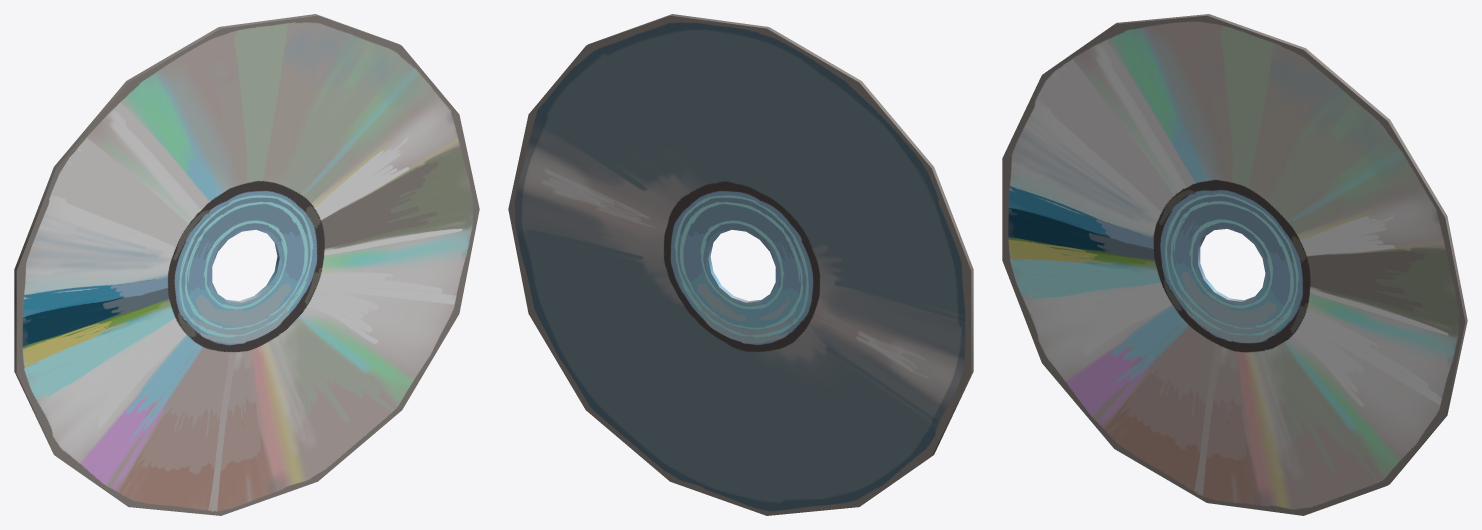
File: lowpolycd.gltf
The picture shows the model from 3 angles, left to right: view 1: azimuth 30°, elevation 25°; view 2: azimuth 150°, elevation 25°; view 3: azimuth 330°, elevation 25°; orthographic projection.
Parts seen in each view (by area): view 1: Object_2; view 2: Object_2; view 3: Object_2.
Part boxes in pixels (x1,y1,x2,y2): Object_2: (14,14,479,515); Object_2: (508,14,973,515); Object_2: (1002,14,1467,515).
Size of the model in its own units: 15.97 by 16.05 by 0.1354.
1 material, 1 textured.
